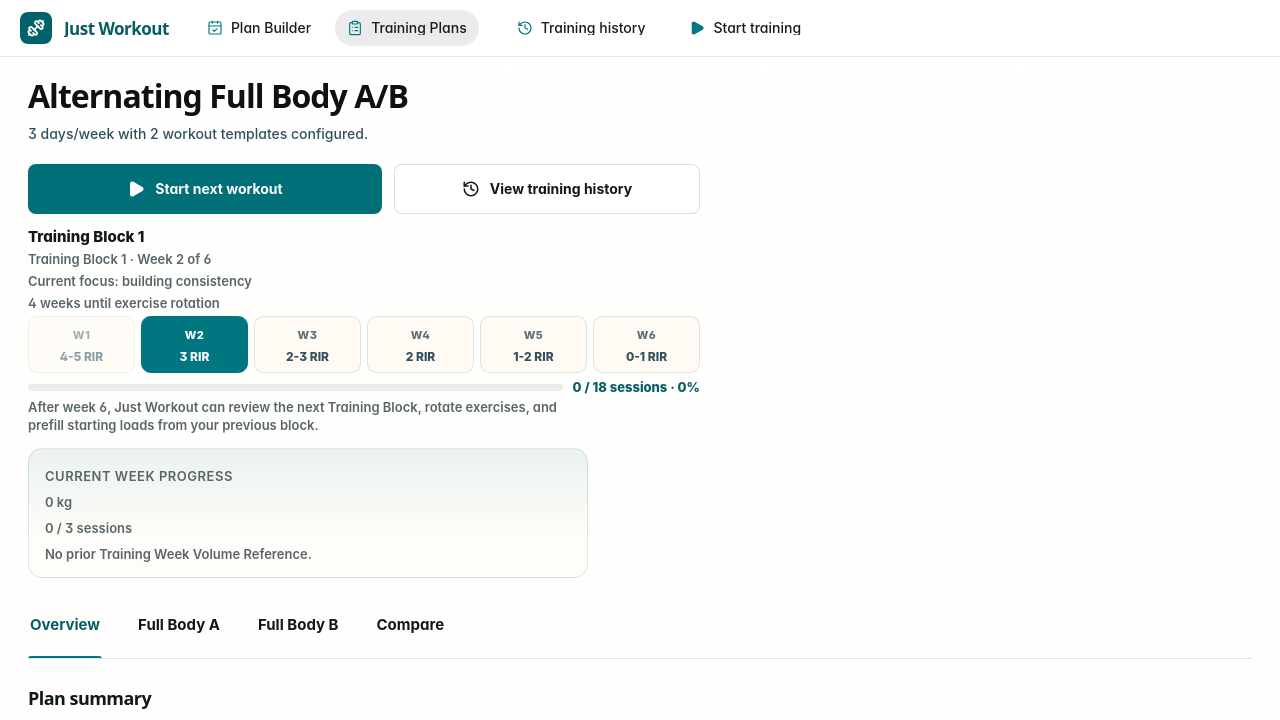
Scenario: TrainingPlanRoute › starts a session from the selected workout template tab
Expected: the heading "Alternating Full Body A/B" is shown, top-left (28, 74), bottom-right (408, 117)
Click the tab "Full Body B": (298, 632) top-left (256, 606), bottom-right (341, 658)
(page scrolled)
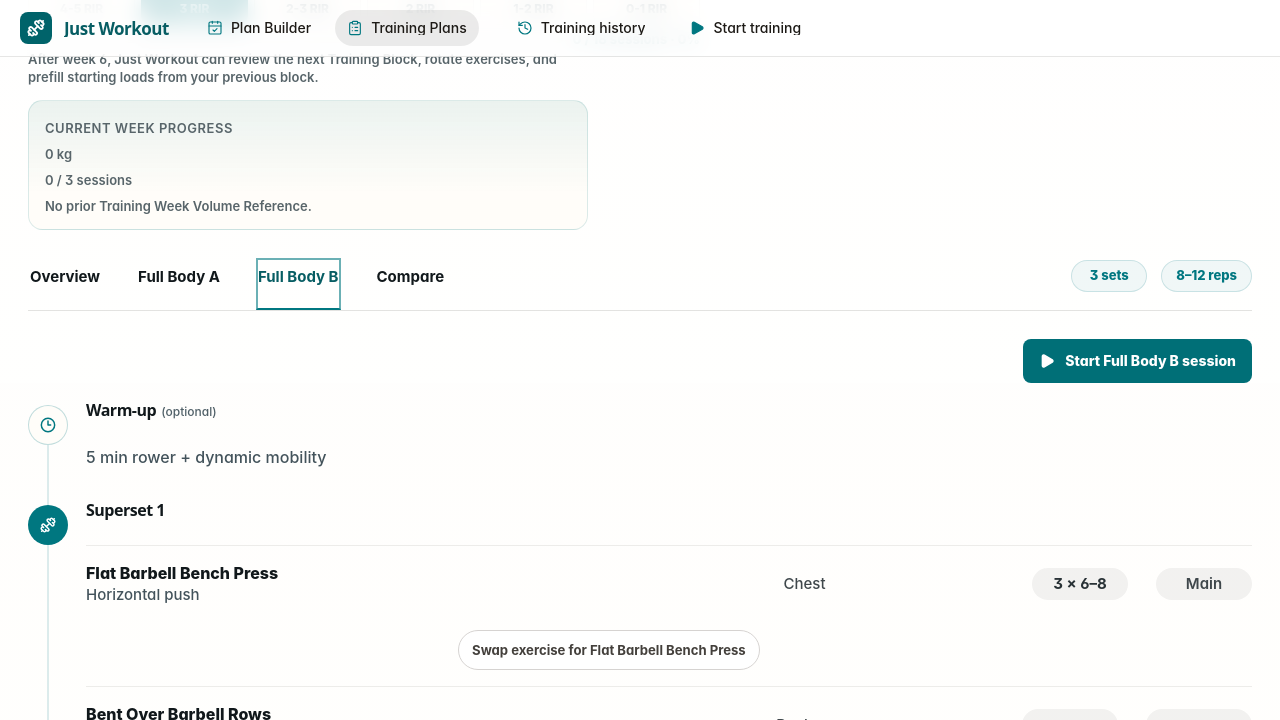
Click the button "Start Full Body B session": (1138, 361) top-left (1023, 339), bottom-right (1252, 383)
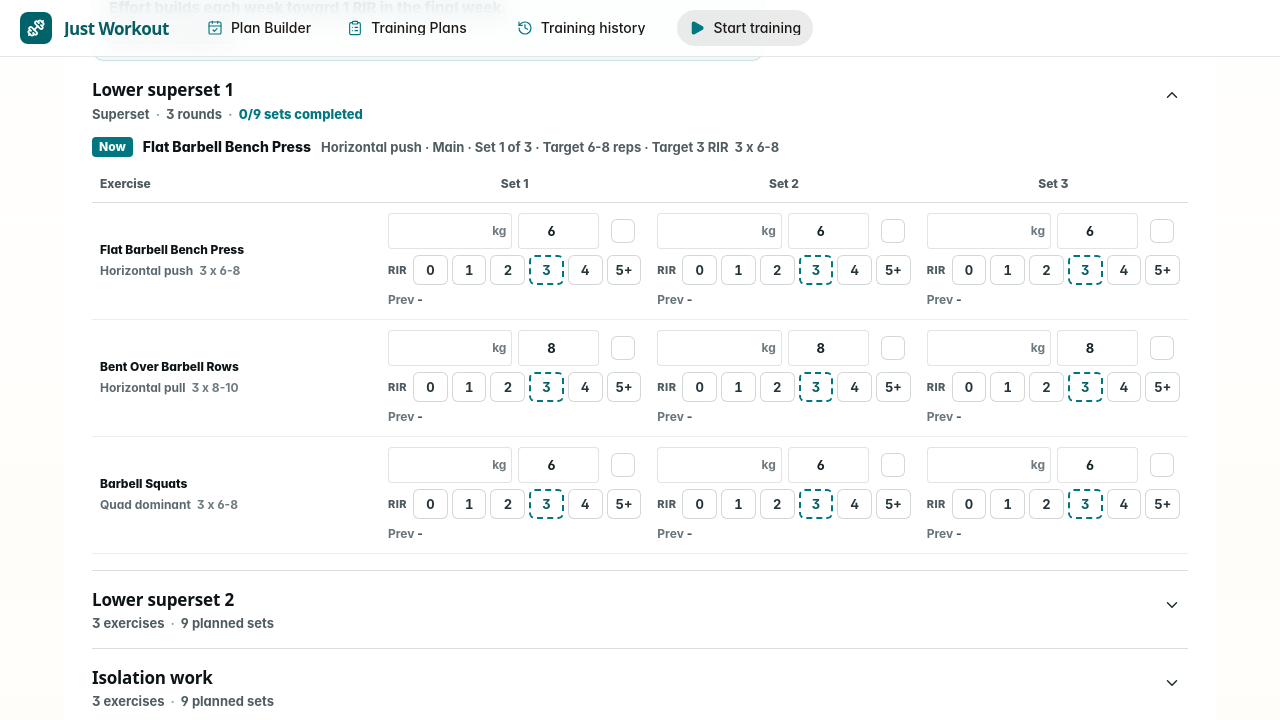
Result: the row that starts with "Flat Barbell Bench Press" is shown at top-left (92, 202), bottom-right (1188, 319)
Result: the row that starts with "Barbell Squats" is shown at top-left (92, 436), bottom-right (1188, 553)
